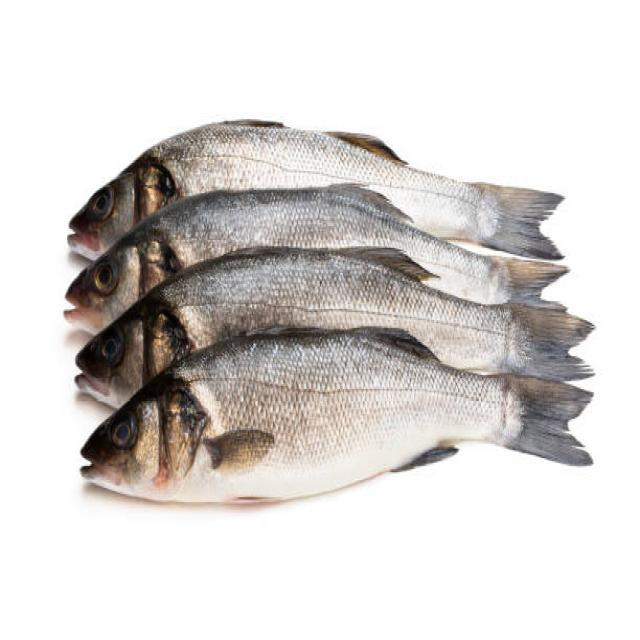Healthy Fish: (51, 118, 608, 506)
